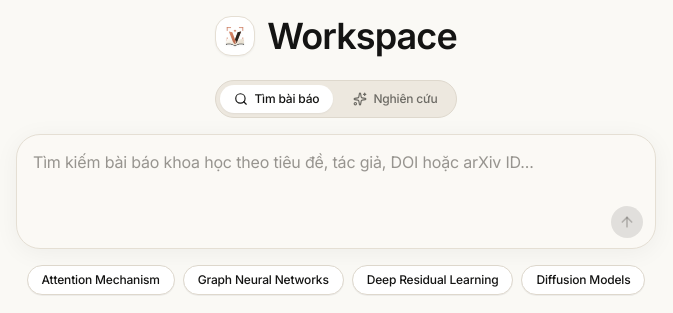
UnifiedHeroWorkspace Component › switches to chat mode and renders reasoning control button
Click the button "Nghiên cứu" at [396, 99], box [339,85,452,113]
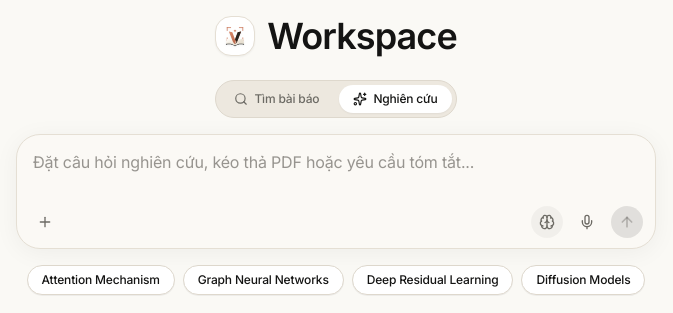
Result: the text box with placeholder "Đặt câu hỏi nghiên cứu, kéo thả PDF hoặc yêu cầu tóm tắt..." is shown at [33,149,639,193]
Result: the button with test id "toggle-reasoning-btn" is shown at [531,206,563,238]
